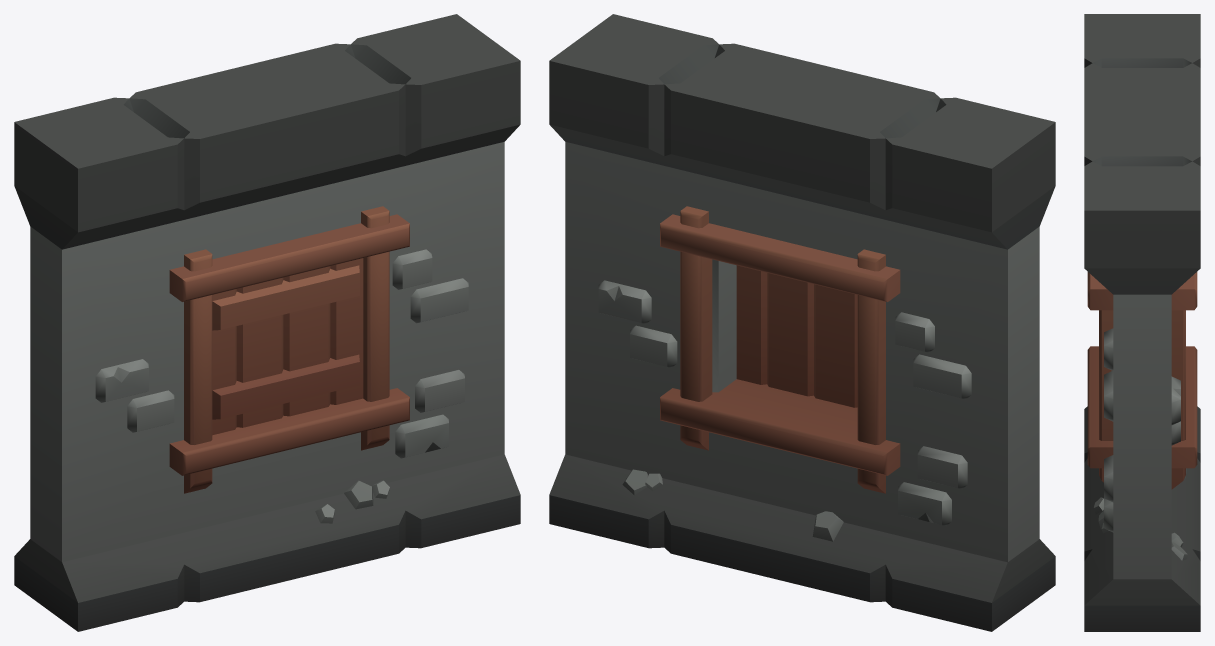
File: wall-window-closed.glb
3 renders of one model, left to right at view 1: azimuth 30°, elevation 25°; view 2: azimuth 150°, elevation 25°; view 3: azimuth 270°, elevation 25°, orthographic. The views are drawn at different scales.
Visible parts, largest first — view 1: wall-window-closed; view 2: wall-window-closed; view 3: wall-window-closed.
Part boxes in pixels (x1=…): wall-window-closed: x1=14, y1=14, x2=520, y2=631; wall-window-closed: x1=549, y1=14, x2=1055, y2=631; wall-window-closed: x1=1084, y1=14, x2=1200, y2=631.
Size of the model in its own units: 3 by 3 by 0.7501.
